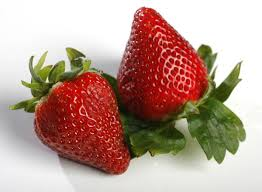ripe: (31, 62, 132, 176), (119, 7, 212, 123)
